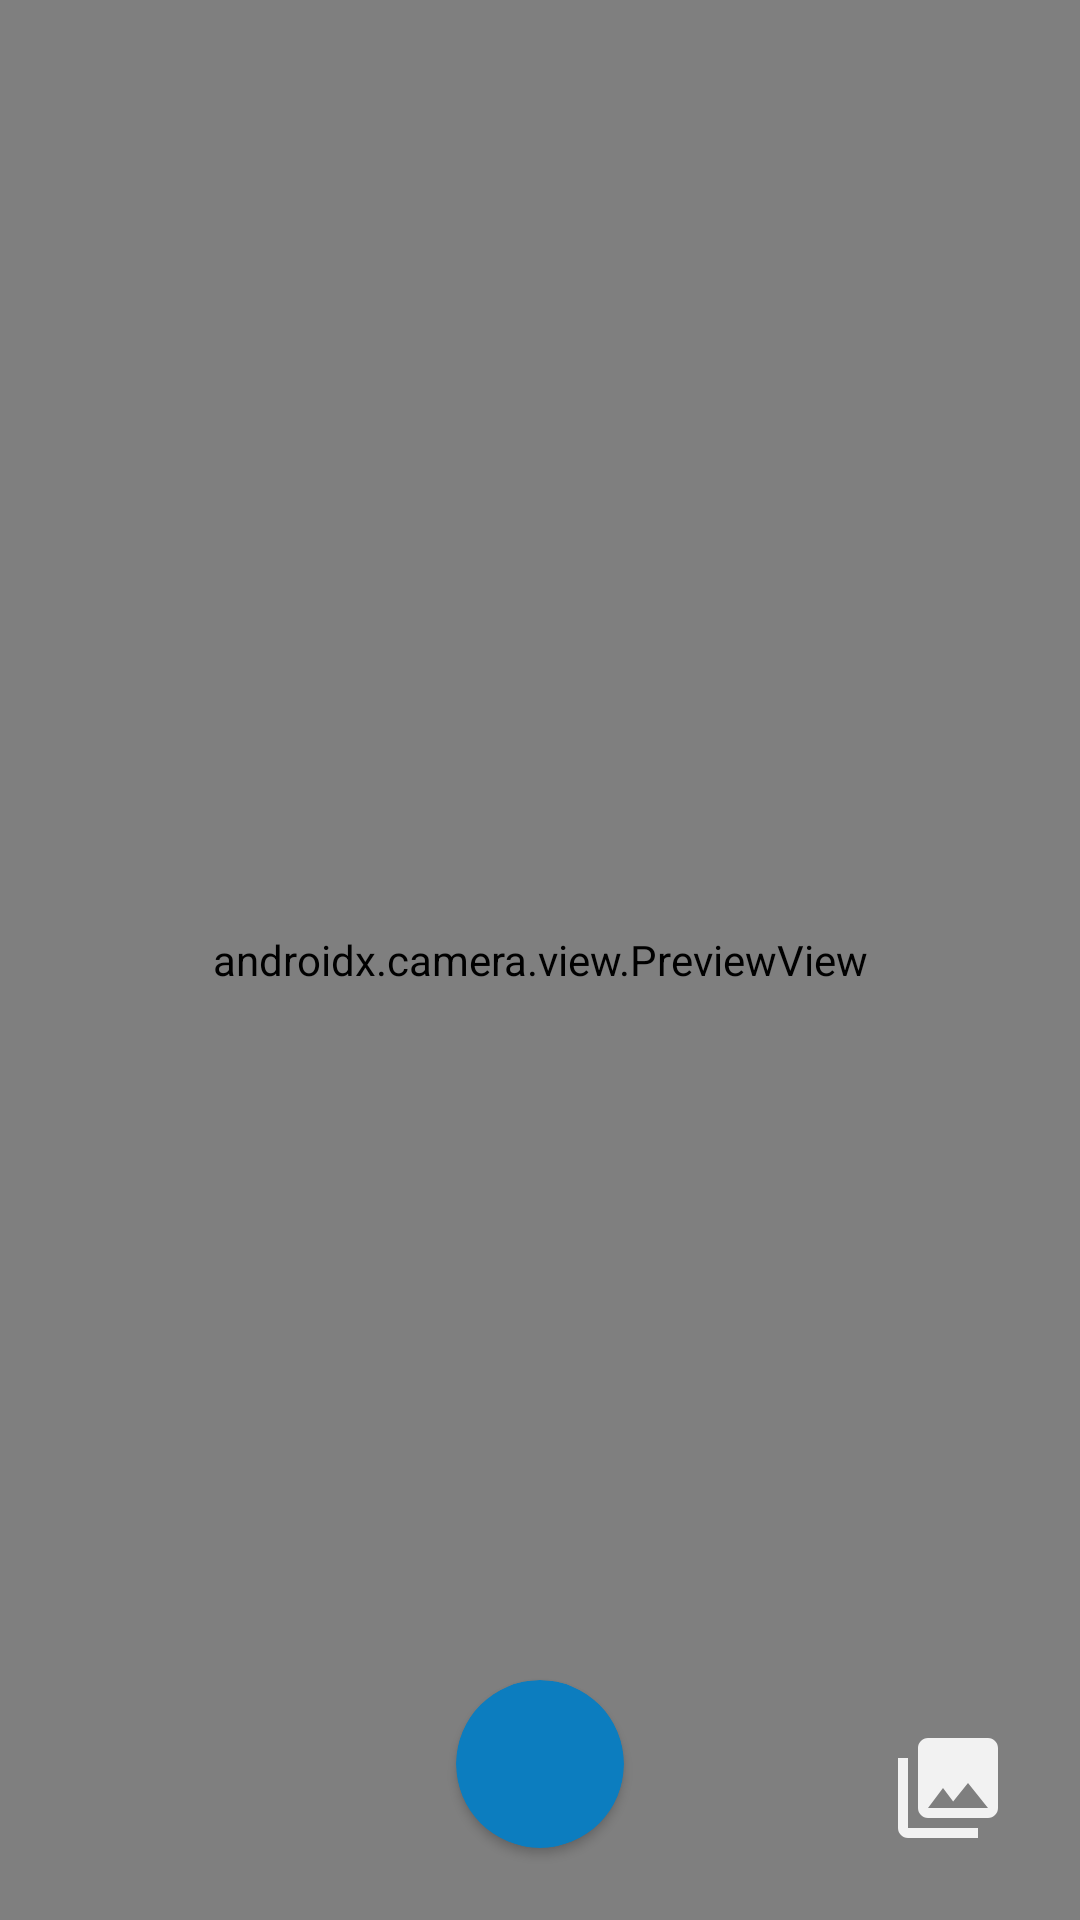

Where icons sit on this 1080px×1920px app screen, as (x1, y1, x2, y2):
pic library: (898, 1738, 998, 1838)
